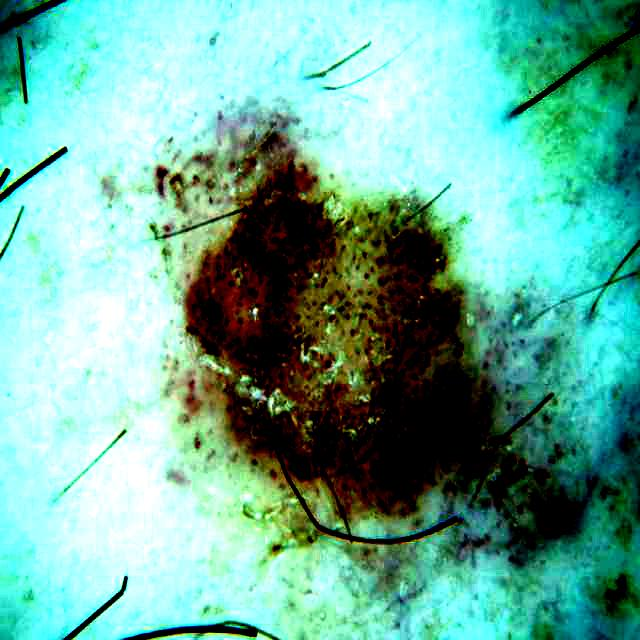AKIEC: (191, 166, 466, 496)
